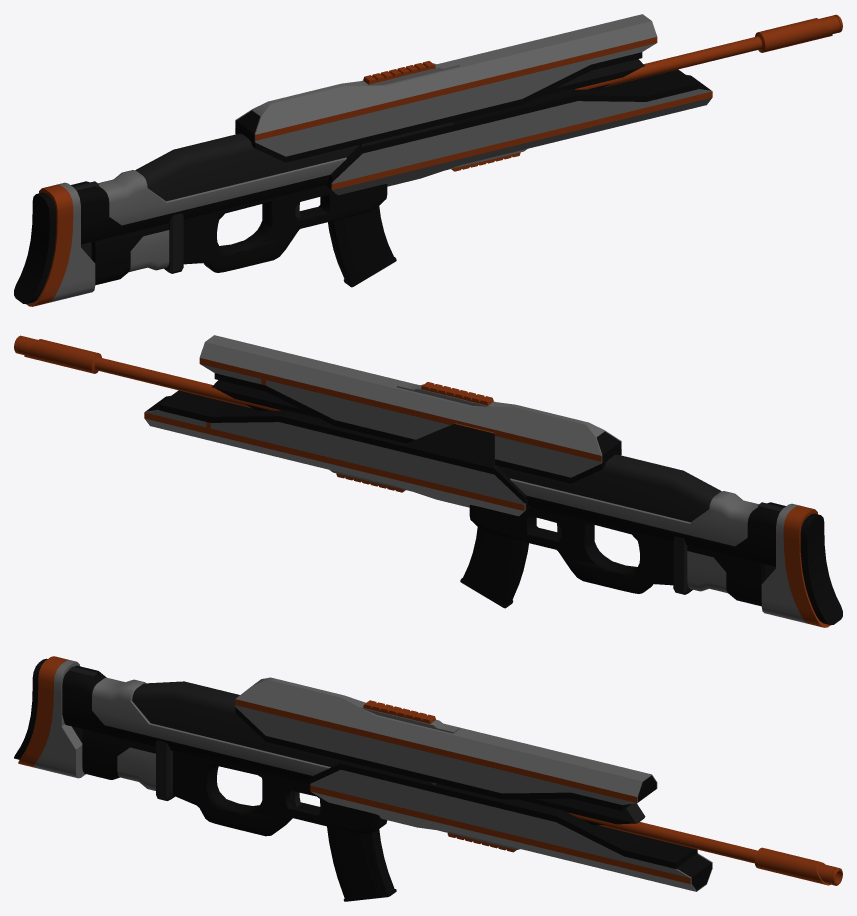
The model's file is Sniper_1.obj.
3 views of the same model, one above another, from view 1: azimuth 30°, elevation 25°; view 2: azimuth 150°, elevation 25°; view 3: azimuth 330°, elevation 25° (orthographic).
Visible parts, largest first — view 1: Sniper_1_Cube.129, Magazine_Sniper_Cube.241; view 2: Sniper_1_Cube.129, Magazine_Sniper_Cube.241; view 3: Sniper_1_Cube.129, Magazine_Sniper_Cube.241.
Boxes of the visible parts, box(x1,y1,x2,y2) form: Sniper_1_Cube.129: box(14, 14, 842, 306); Magazine_Sniper_Cube.241: box(328, 206, 396, 287); Sniper_1_Cube.129: box(14, 335, 842, 627); Magazine_Sniper_Cube.241: box(460, 527, 528, 608); Sniper_1_Cube.129: box(14, 656, 842, 891); Magazine_Sniper_Cube.241: box(327, 826, 396, 901).
Size of the model in its own units: 2.22 by 0.5222 by 0.1028.
